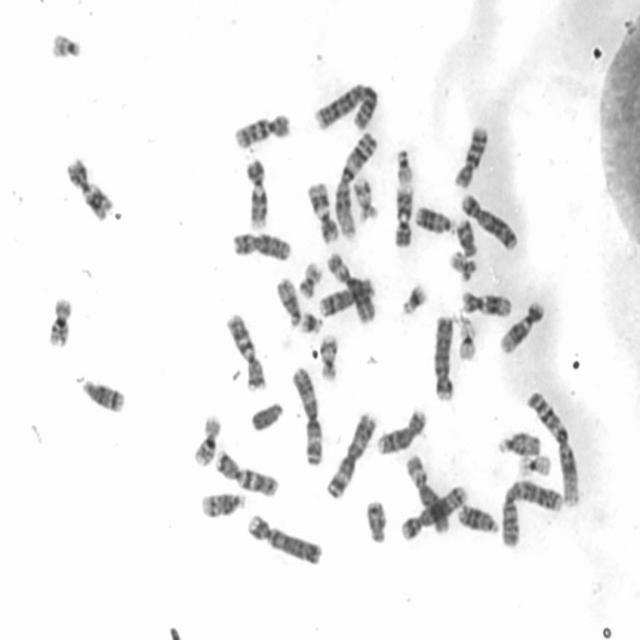A1: (526, 390, 580, 507), (334, 132, 378, 240)
A2: (500, 480, 562, 548), (313, 83, 380, 133)
A3: (326, 411, 377, 501), (290, 366, 324, 466)
B4: (245, 513, 327, 569), (433, 315, 455, 401)
B5: (399, 484, 469, 541), (460, 192, 520, 252)
C10: (233, 113, 291, 151), (454, 125, 488, 188)
C11: (63, 158, 114, 223), (306, 180, 339, 244)
C12: (498, 299, 544, 355), (461, 288, 512, 318)
C6: (324, 251, 376, 323), (404, 451, 450, 532)
C7: (223, 314, 268, 392), (215, 448, 281, 497)
C8: (377, 409, 428, 455), (319, 277, 375, 318)
C9: (240, 158, 270, 232), (392, 185, 414, 249)
D13: (414, 204, 458, 238), (458, 503, 500, 537)
D14: (73, 374, 128, 415), (200, 491, 248, 518)
D15: (276, 277, 301, 327), (497, 432, 541, 456)
E16: (40, 298, 78, 347), (191, 414, 223, 470)
E17: (352, 176, 378, 224), (320, 335, 340, 383)
E18: (364, 496, 388, 546), (453, 217, 481, 258)
F19: (457, 316, 478, 362), (516, 453, 552, 477)
F20: (298, 260, 322, 299), (450, 250, 478, 282)
G21: (397, 282, 432, 317), (300, 310, 323, 336)
G22: (49, 32, 84, 61), (394, 148, 415, 187)
X: (230, 230, 292, 263)
Y: (249, 401, 285, 434)
